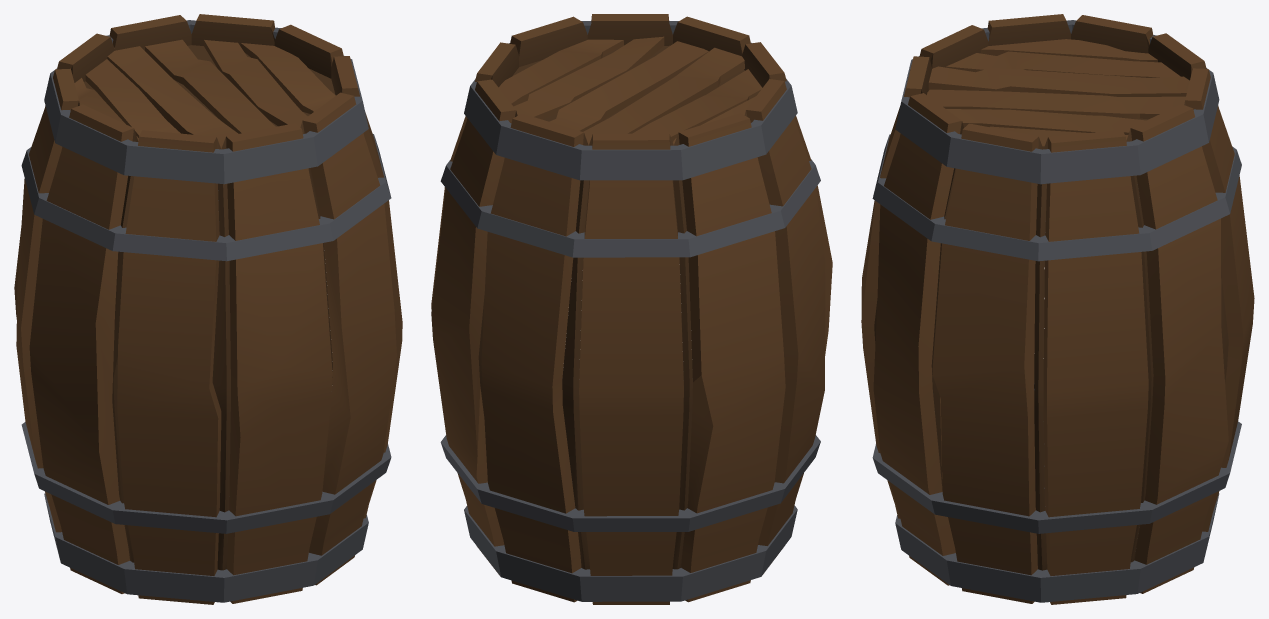
Rendered from jar.glb.
The picture shows the model from 3 angles, left to right: view 1: azimuth 30°, elevation 25°; view 2: azimuth 150°, elevation 25°; view 3: azimuth 270°, elevation 25°; orthographic projection.
Parts seen in each view (by area): view 1: Barrel; view 2: Barrel; view 3: Barrel.
Boxes of the visible parts, <box> form: Barrel: <box>14,14,402,604</box>; Barrel: <box>431,14,832,604</box>; Barrel: <box>861,14,1254,604</box>.
Size of the model in its own units: 0.1582 by 0.2043 by 0.1568.
